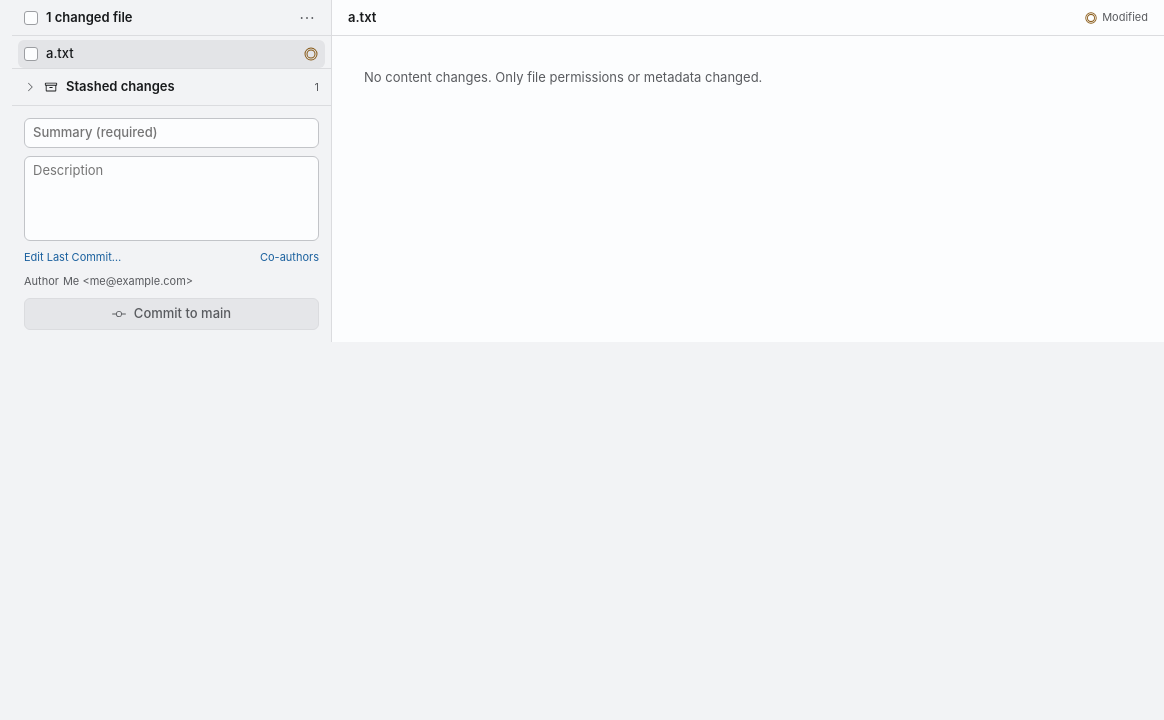
Scenario: stashes in the changes view › restores a stash and removes it
The image size is (1164, 720).
Click the button "Stashed changes 1" at (172, 87), box [12,69,331,105]
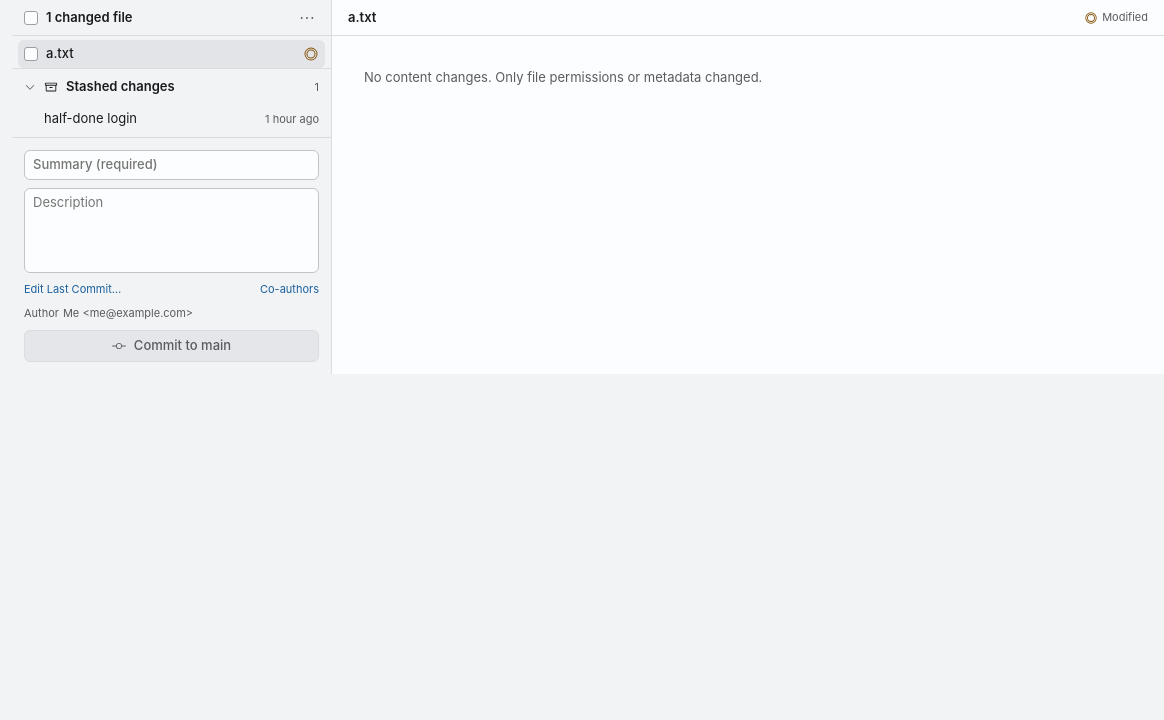
Click the button "half-done login 1 hour ago" at (90, 118), box [18,105,325,133]
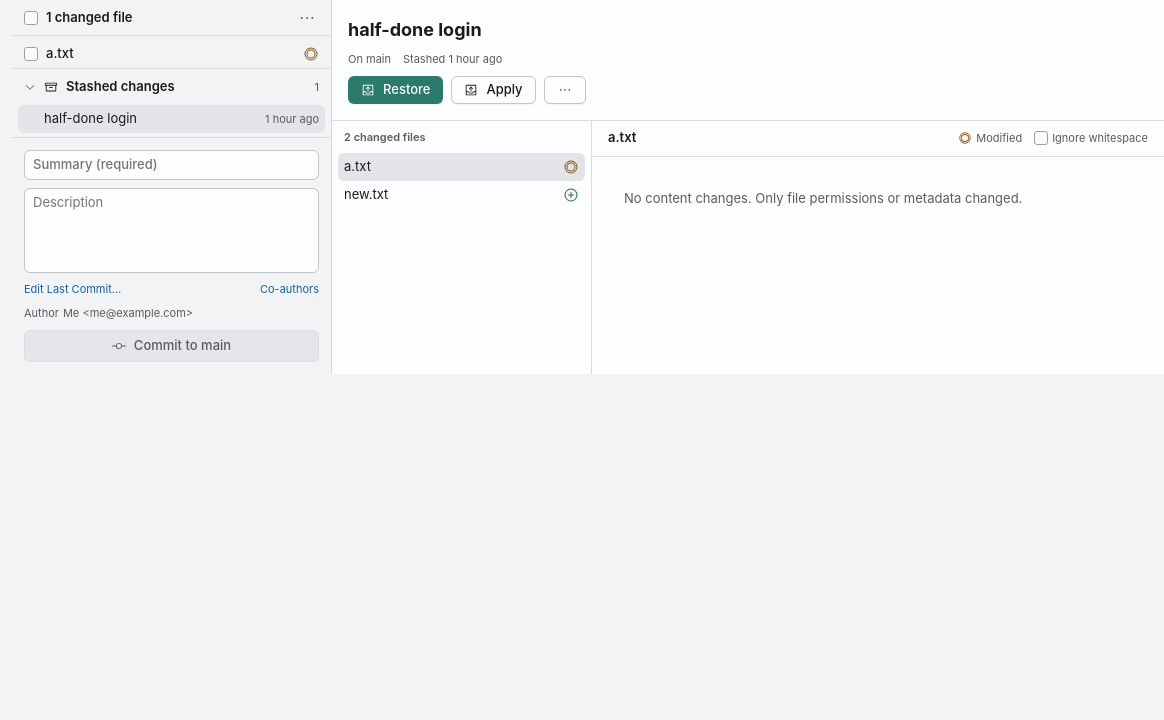
Click the button "Restore" at (396, 90), box [348,76,444,104]
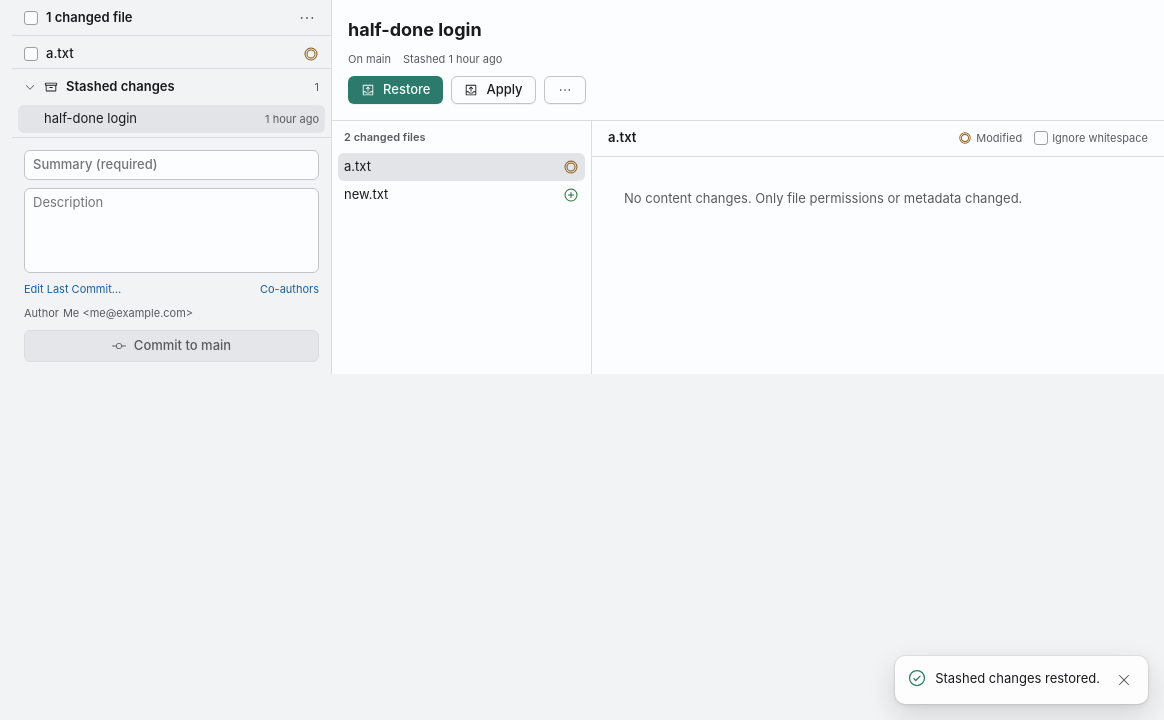
Expected: the text "Stashed changes restored." is shown, [935,669,1100,688]
